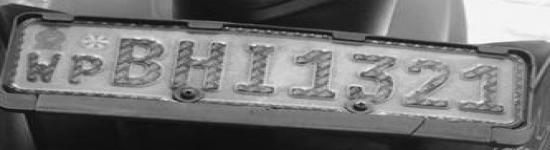1: (284, 44, 342, 102), (456, 61, 513, 116)
2: (401, 55, 456, 109)
3: (347, 51, 402, 105)
B: (110, 33, 166, 90)
H: (167, 36, 228, 92)
I: (231, 41, 279, 97)
P: (67, 52, 107, 88)
W: (23, 49, 65, 86)
